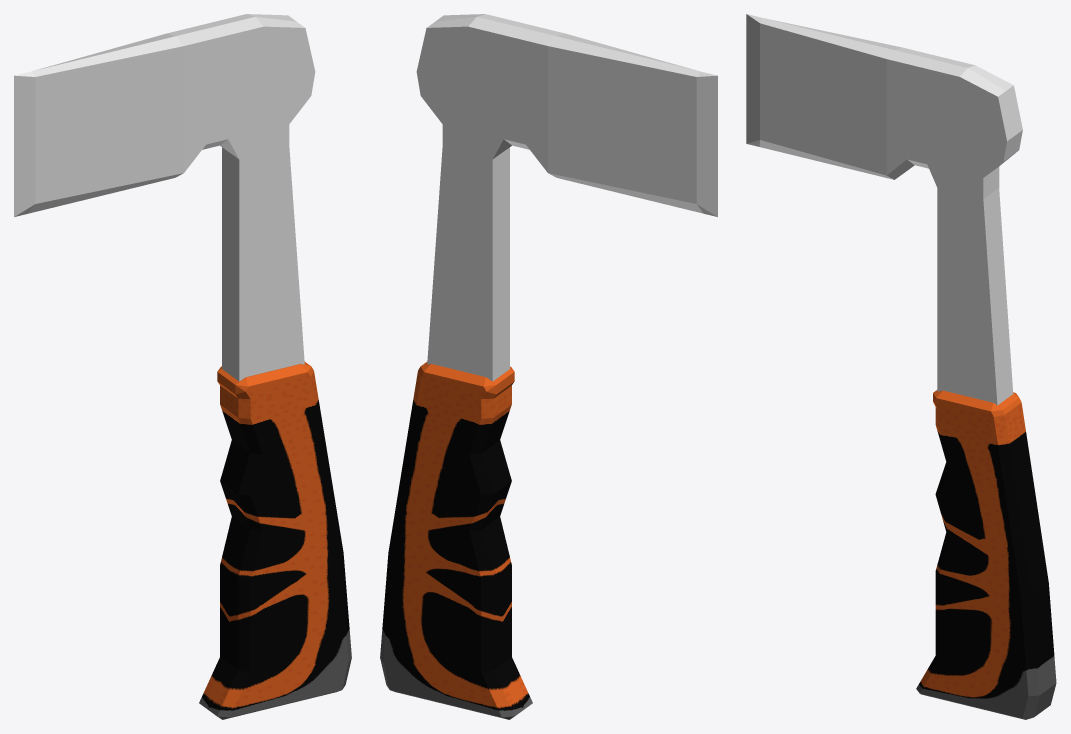
File: mod_tool_hatchet.fbx
3 views of the same model, side by side, from view 1: azimuth 30°, elevation 25°; view 2: azimuth 150°, elevation 25°; view 3: azimuth 330°, elevation 25° (orthographic). The views are drawn at different scales.
Visible parts, largest first — view 1: mesh_tool_hatchet.001, mesh_tool_hatchet; view 2: mesh_tool_hatchet.001, mesh_tool_hatchet; view 3: mesh_tool_hatchet.001, mesh_tool_hatchet.
Boxes of the visible parts, x1,y1,x2,y2 form: mesh_tool_hatchet.001: [14, 14, 315, 381]; mesh_tool_hatchet: [199, 362, 351, 719]; mesh_tool_hatchet.001: [416, 14, 717, 381]; mesh_tool_hatchet: [380, 362, 532, 719]; mesh_tool_hatchet.001: [746, 14, 1022, 405]; mesh_tool_hatchet: [916, 390, 1056, 719].
Size of the model in its own units: 279 by 555 by 40.
